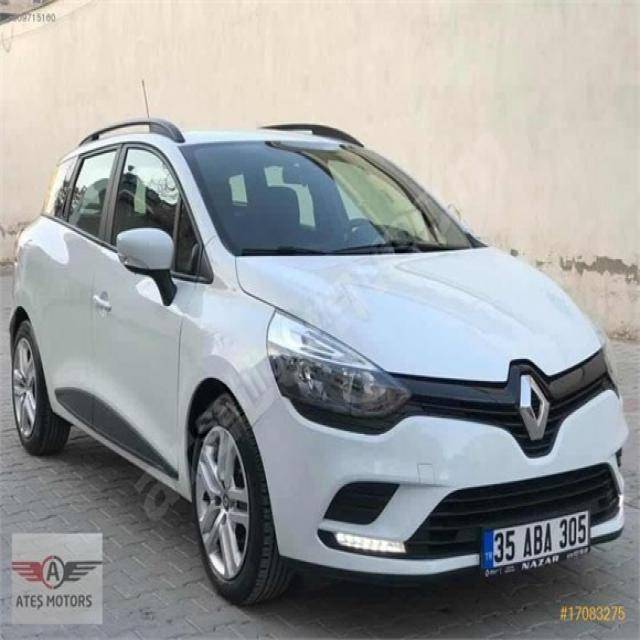plate: (480, 506, 592, 586)
